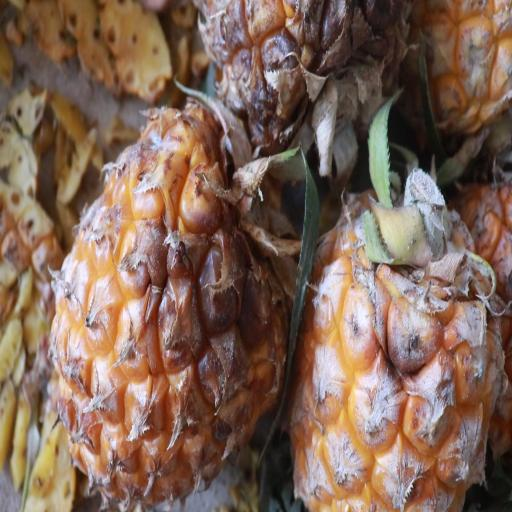Pineapple - v8 v1: (46, 101, 289, 512), (290, 177, 512, 512)
